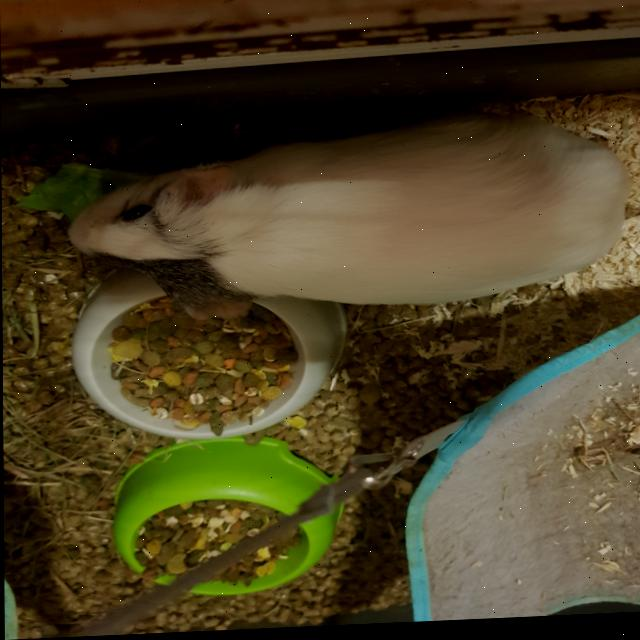guinea pig: (59, 107, 629, 329)
